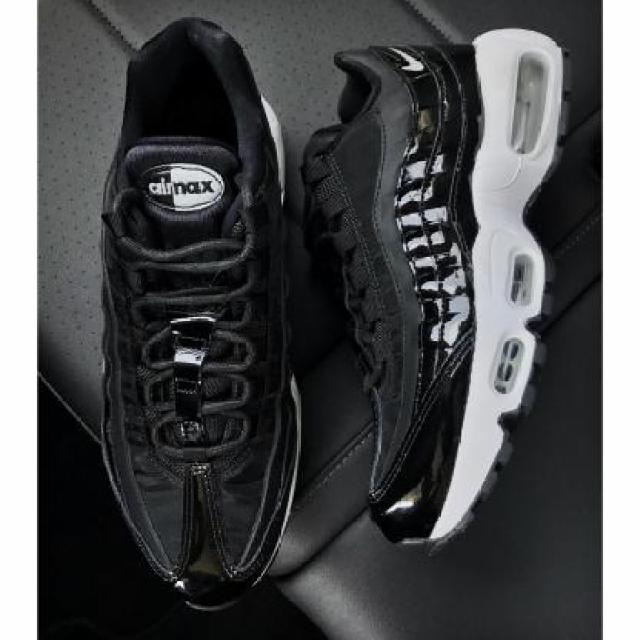shoe: (294, 15, 583, 559), (83, 9, 314, 622)
